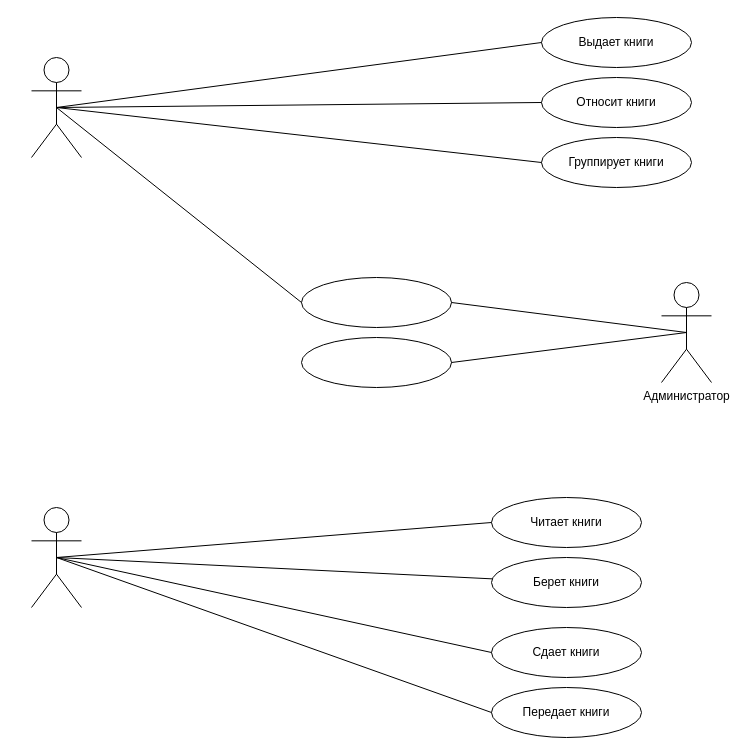
Some shapes in this 747 by 755 pixel diagram are drawn without their labels. Here are the shapes that lost their labels. From the top down, the centre of each, then its label:
At [56,107]: "Библиотекарь".
At [376,302]: "Принимает новые книги".
At [376,362]: "Регистрирует новых клиентов".
At [56,557]: "Гость".
